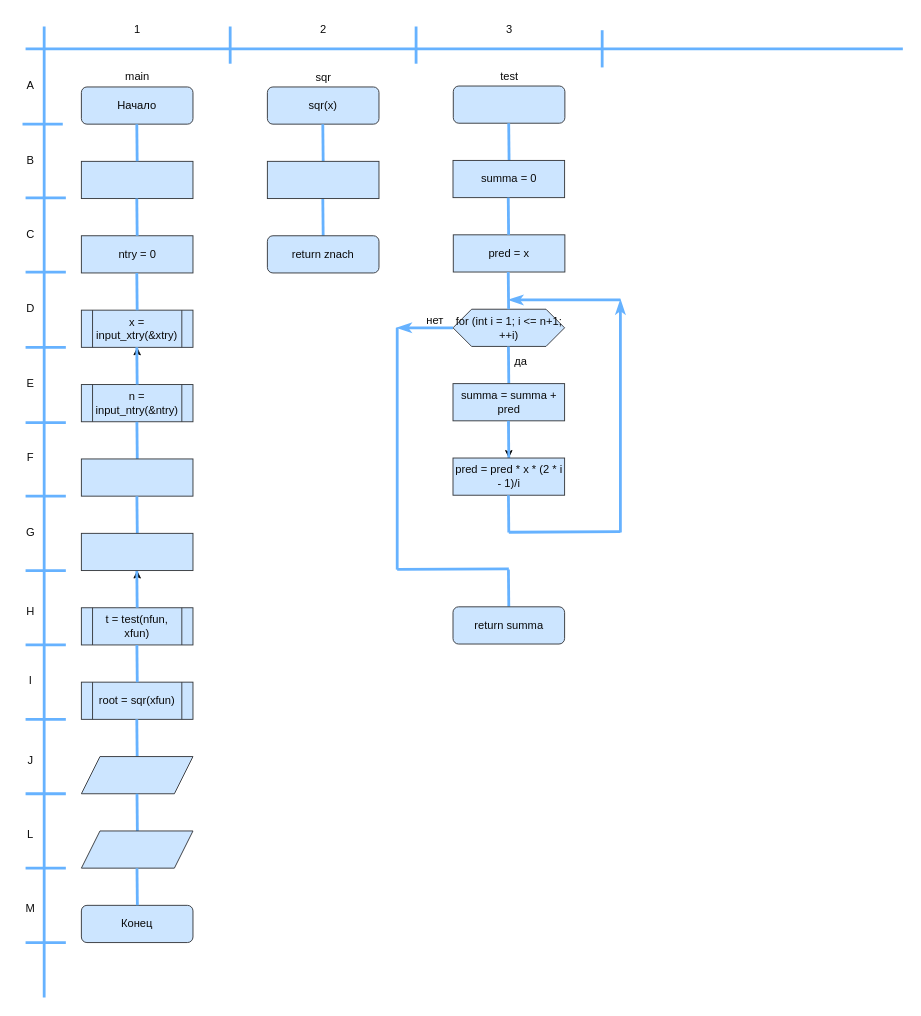
Image size: 921x1016. Some labels were removed from this diagram. The box of each missing label's shape, as (x1, y1, x2, y2) in pixels:
nfun = ntry: (80, 532, 193, 571)
test(n, x): (452, 85, 565, 123)
xfun = xtry: (80, 458, 193, 496)
xtry = 0: (80, 160, 193, 199)
znach = x / sqrt(1 - 2*x): (266, 160, 379, 199)
вывод root: (80, 756, 193, 794)
вывод t: (80, 830, 193, 868)
